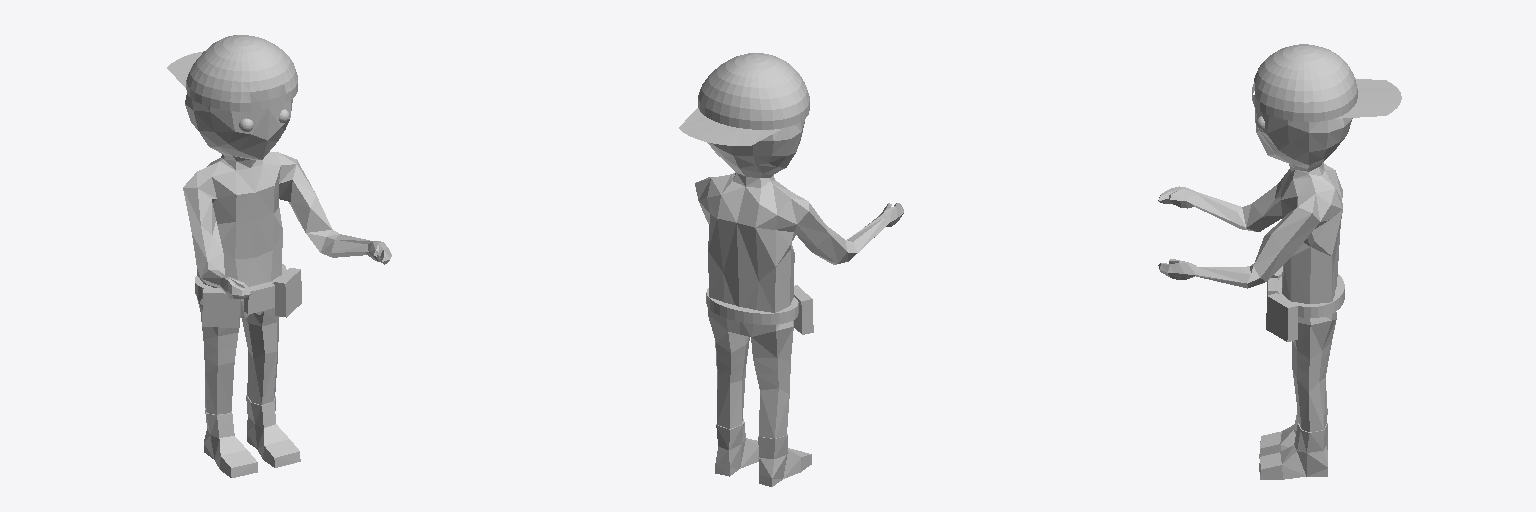
The model's file is Main_Character_TireRack_2.obj.
The picture shows the model from 3 angles: view 1: azimuth 30°, elevation 25°; view 2: azimuth 150°, elevation 25°; view 3: azimuth 270°, elevation 25°; orthographic projection.
Visible parts, largest first — view 1: Main_Character_Test.003_Main_Character_Test.004; view 2: Main_Character_Test.003_Main_Character_Test.004; view 3: Main_Character_Test.003_Main_Character_Test.004.
Boxes of the visible parts, x1,y1,x2,y2 form: Main_Character_Test.003_Main_Character_Test.004: [167, 35, 391, 477]; Main_Character_Test.003_Main_Character_Test.004: [679, 53, 903, 486]; Main_Character_Test.003_Main_Character_Test.004: [1158, 44, 1401, 479].
Size of the model in its own units: 1.63 by 3.98 by 2.13.